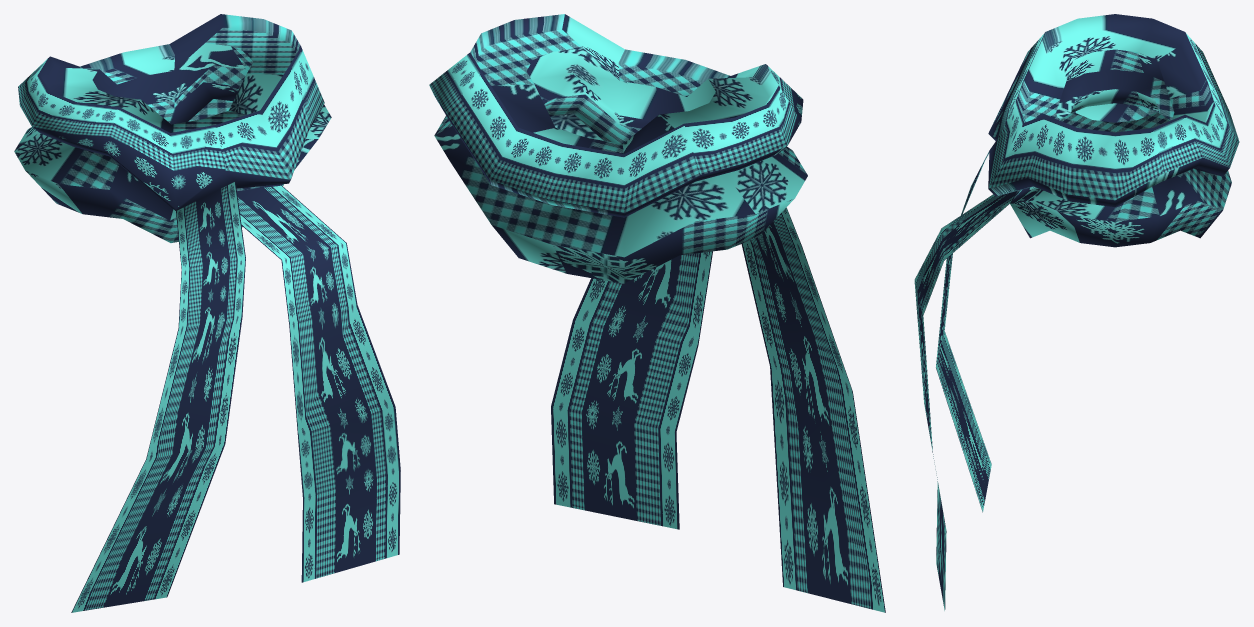
The model's file is Sharf.fbx.
The picture shows the model from 3 angles, left to right: view 1: azimuth 30°, elevation 25°; view 2: azimuth 150°, elevation 25°; view 3: azimuth 270°, elevation 25°; orthographic projection. The views are drawn at different scales.
Visible parts, largest first — view 1: Sharf; view 2: Sharf; view 3: Sharf.
Part boxes in pixels (box(x1,y1,x2,y2)): Sharf: box(14, 14, 400, 612); Sharf: box(429, 14, 885, 612); Sharf: box(914, 14, 1239, 610).
Size of the model in its own units: 0.2406 by 0.3488 by 0.2169.
